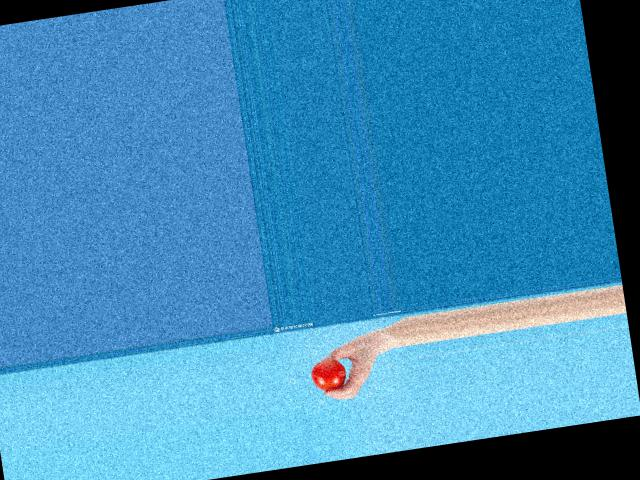tomato: (310, 358, 348, 392)
